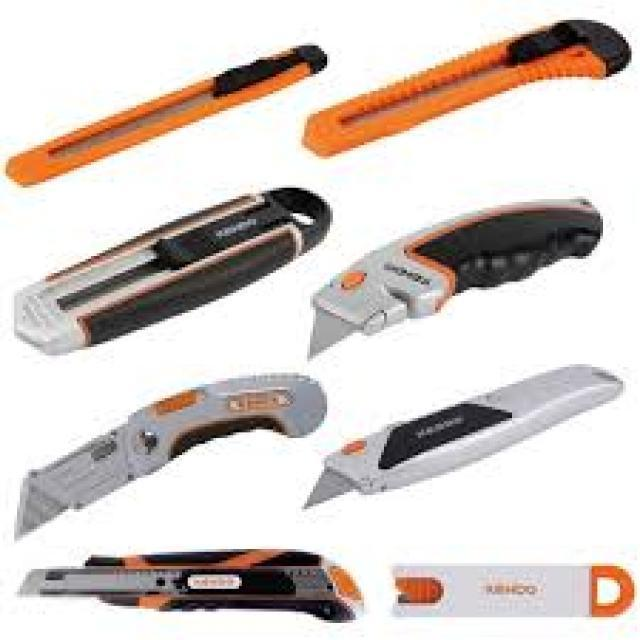cutter: (4, 176, 352, 357), (305, 181, 620, 371), (290, 352, 626, 520), (8, 376, 336, 546), (293, 14, 640, 169), (1, 40, 337, 196), (12, 540, 380, 632)
